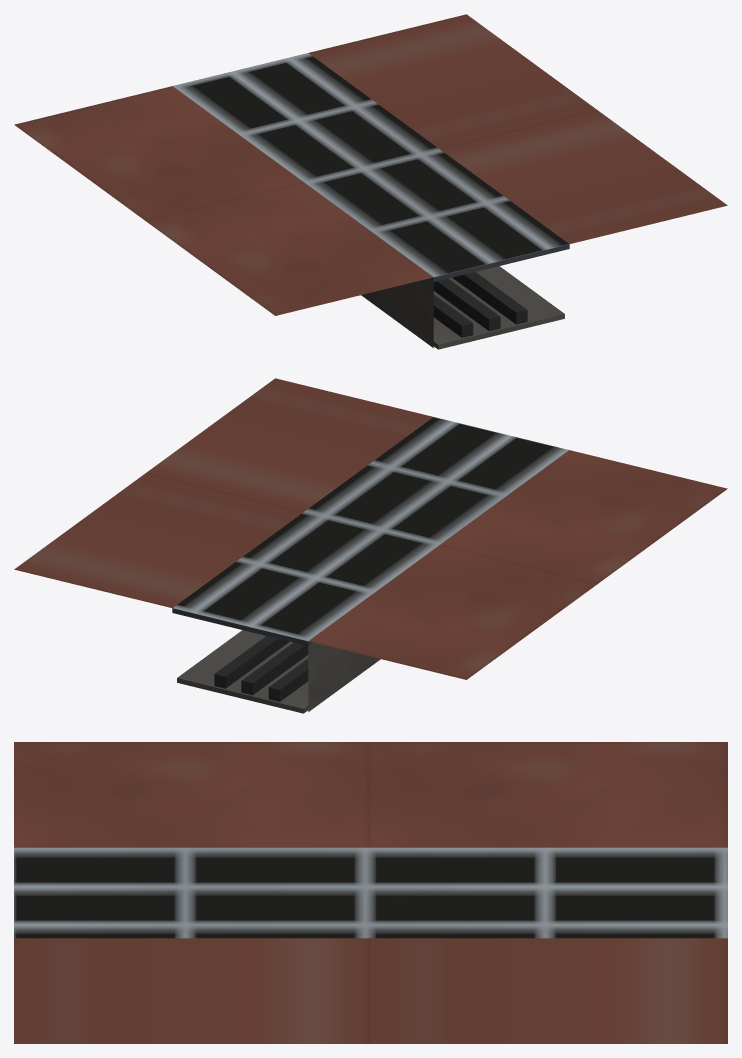
The model's file is floor_bunker_trench.glb.
3 renders of one model, top to bottom at view 1: azimuth 30°, elevation 25°; view 2: azimuth 150°, elevation 25°; view 3: azimuth 270°, elevation 25°, orthographic. The views are drawn at different scales.
Visible parts, largest first — view 1: floor_bunker_trench; view 2: floor_bunker_trench; view 3: floor_bunker_trench.
Part boxes in pixels (bbox=[...]): floor_bunker_trench: bbox=[14, 14, 727, 349]; floor_bunker_trench: bbox=[14, 378, 727, 713]; floor_bunker_trench: bbox=[14, 742, 727, 1043].
Size of the model in its own units: 2 by 0.31 by 2.
Materials: 1 (1 with a texture image).
